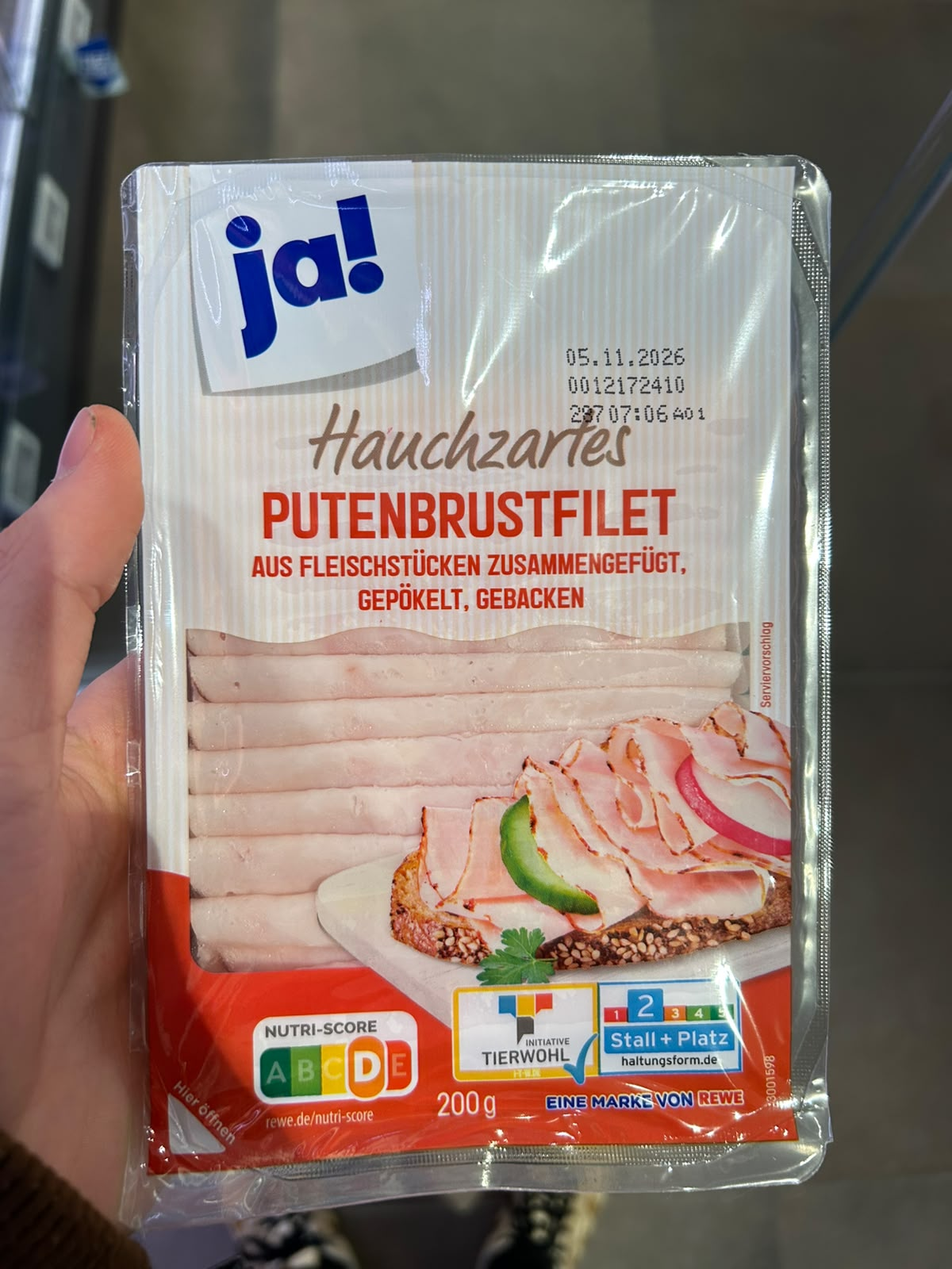wrapper: (103, 141, 860, 1227)
